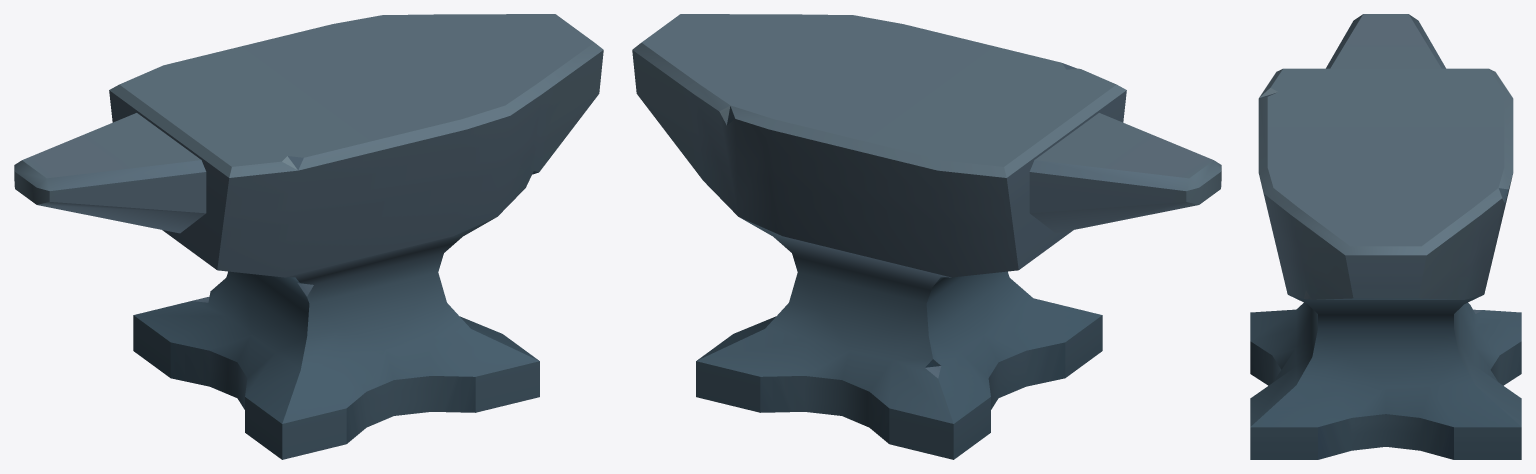
File: anvil.glb
3 views of the same model, side by side, from view 1: azimuth 30°, elevation 25°; view 2: azimuth 150°, elevation 25°; view 3: azimuth 270°, elevation 25° (orthographic). The views are drawn at different scales.
Parts seen in each view (by area): view 1: anvil; view 2: anvil; view 3: anvil.
Part boxes in pixels (box(x1,y1,x2,y2)): anvil: box(14, 14, 603, 459); anvil: box(632, 14, 1221, 459); anvil: box(1250, 14, 1521, 459).
Size of the model in its own units: 1.62 by 0.8 by 0.75.
Materials: 1 (1 with a texture image).
